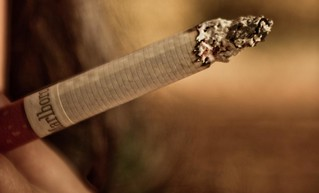cigarette: (0, 11, 277, 157)
